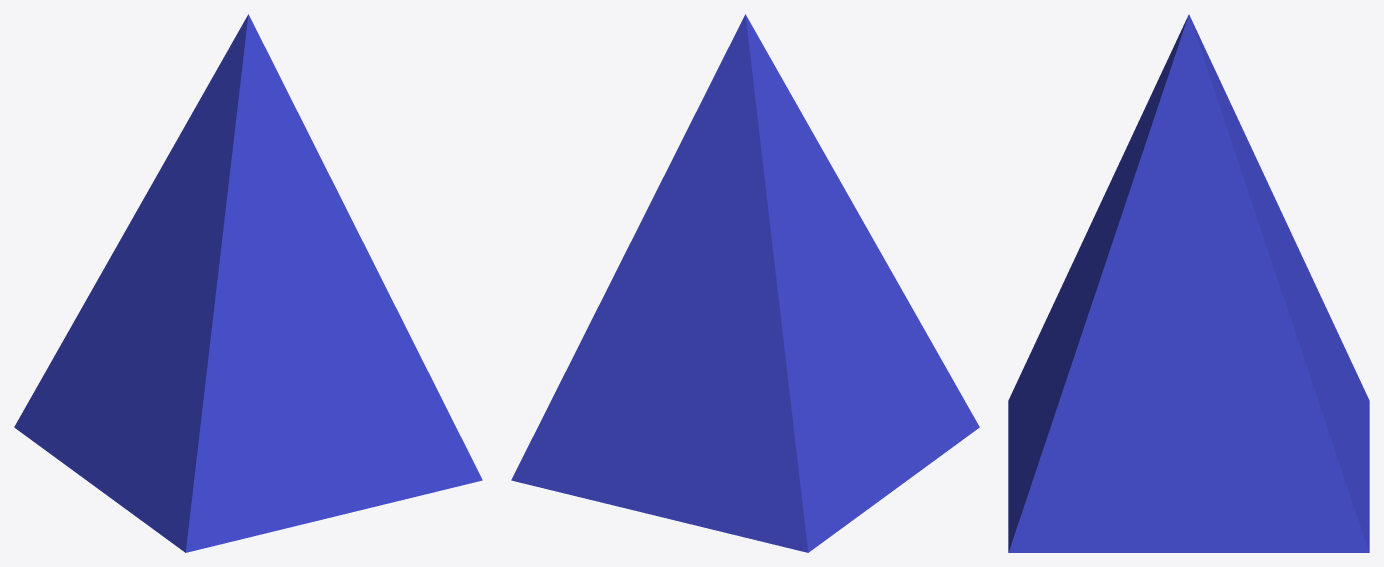
The picture shows the model from 3 angles, left to right: view 1: azimuth 30°, elevation 25°; view 2: azimuth 150°, elevation 25°; view 3: azimuth 270°, elevation 25°; orthographic projection. The views are drawn at different scales.
Parts seen in each view (by area): view 1: root; view 2: root; view 3: root.
Part boxes in pixels (x1,y1,x2,y2): root: (14, 14, 482, 552); root: (511, 14, 979, 552); root: (1008, 14, 1369, 552).
Bounding box in the file's own units: 24.64 × 34.85 × 24.64.
